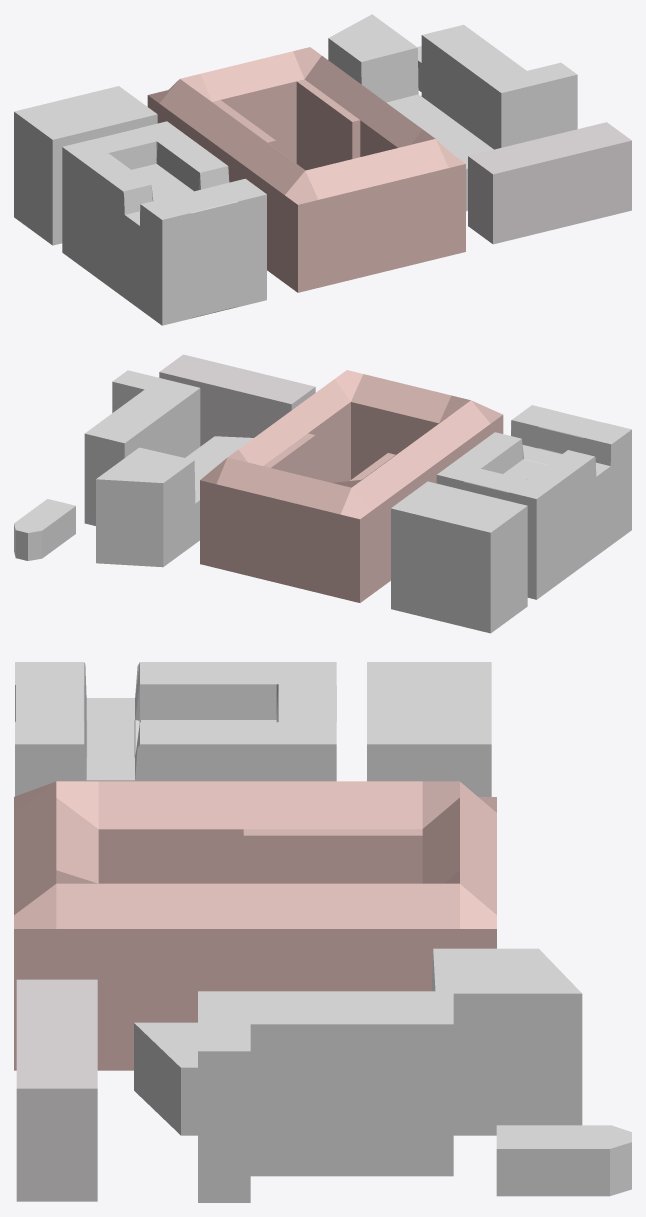
File: planfac2.glb
3 views of the same model, one above another, from view 1: azimuth 30°, elevation 25°; view 2: azimuth 150°, elevation 25°; view 3: azimuth 270°, elevation 25° (orthographic). The views are drawn at different scales.
Parts seen in each view (by area): view 1: Cube.008, Cube.001, Cube.005, Cube.006, Cube, Cube.004; view 2: Cube.008, Cube.001, Cube, Cube.004, Cube.006, Cube.005, Cube.007; view 3: Cube.008, Cube.006, Cube.001, Cube.004, Cube.005, Cube, Cube.007.
Part boxes in pixels (x1,y1,x2,y2): Cube.008: (147,47,465,292); Cube.001: (62,121,266,325); Cube.005: (468,122,631,244); Cube.006: (421,24,577,149); Cube: (14,86,157,245); Cube.004: (328,14,493,211); Cube.008: (200,370,503,602); Cube.001: (436,405,631,599); Cube: (391,481,527,633); Cube.004: (96,436,253,567); Cube.006: (84,370,200,525); Cube.005: (159,354,315,446); Cube.007: (14,499,75,560); Cube.008: (14,781,496,1070); Cube.006: (198,991,453,1202); Cube.001: (15,662,336,796); Cube.004: (134,948,582,1135); Cube.005: (16,979,97,1201); Cube: (367,662,491,796); Cube.007: (496,1125,631,1196).
Size of the model in its own units: 7.51 by 1.64 by 5.29.
